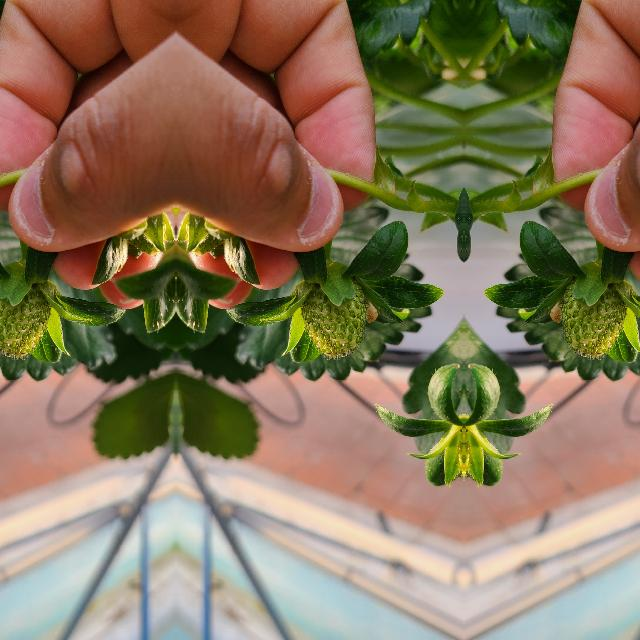Health_25: (300, 282, 366, 356), (560, 282, 626, 356), (0, 281, 49, 356)
